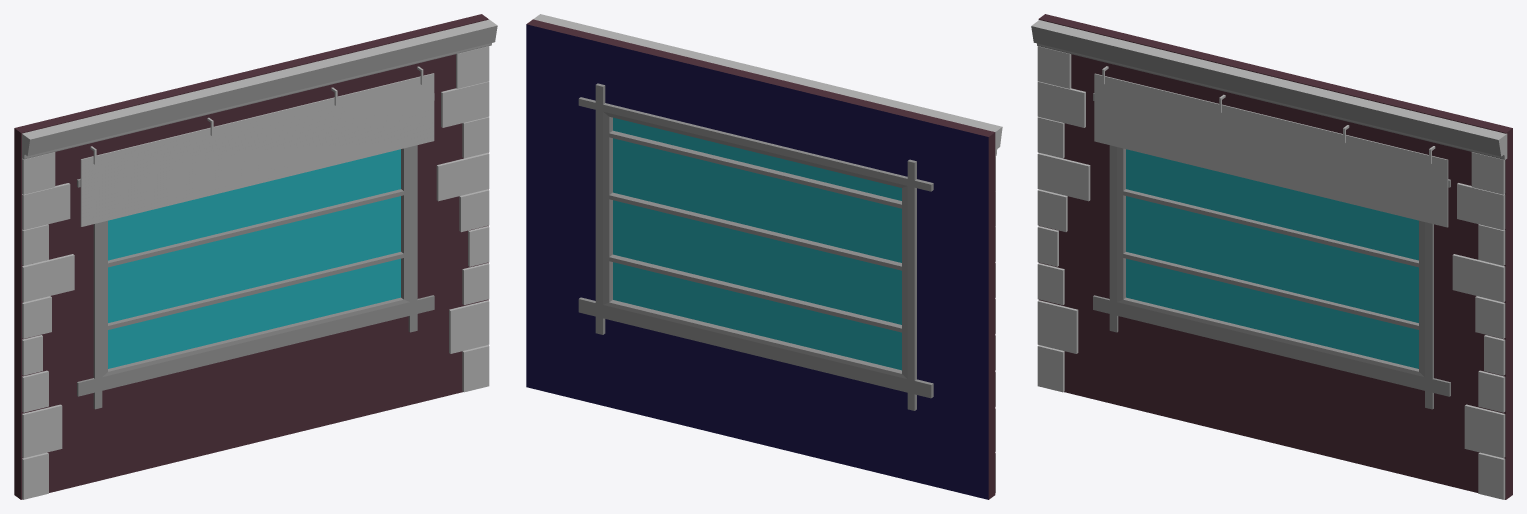
The model's file is BigWindowWall.fbx.
3 views of the same model, side by side, from view 1: azimuth 30°, elevation 25°; view 2: azimuth 150°, elevation 25°; view 3: azimuth 330°, elevation 25° (orthographic).
Visible parts, largest first — view 1: BASE.003, Box071.002, WALL SIDES.003, BIG WINDOW FRAME, WALL TOP.003; view 2: BASE.003, BIG WINDOW FRAME, WALL TOP.003; view 3: BASE.003, Box071.002, WALL SIDES.003, BIG WINDOW FRAME, WALL TOP.003.
Boxes of the visible parts, x1=… form: BASE.003: x1=14, y1=14, x2=488, y2=499; Box071.002: x1=80, y1=73, x2=434, y2=226; WALL SIDES.003: x1=22, y1=46, x2=489, y2=499; BIG WINDOW FRAME: x1=77, y1=93, x2=434, y2=409; WALL TOP.003: x1=22, y1=19, x2=497, y2=159; BASE.003: x1=526, y1=19, x2=995, y2=499; BIG WINDOW FRAME: x1=578, y1=83, x2=933, y2=410; WALL TOP.003: x1=533, y1=14, x2=1002, y2=156; BASE.003: x1=1038, y1=14, x2=1512, y2=499; Box071.002: x1=1094, y1=73, x2=1448, y2=227; WALL SIDES.003: x1=1037, y1=46, x2=1505, y2=499; BIG WINDOW FRAME: x1=1093, y1=93, x2=1450, y2=409; WALL TOP.003: x1=1031, y1=20, x2=1507, y2=159.
Size of the model in its own units: 801 by 600 by 51.01.
